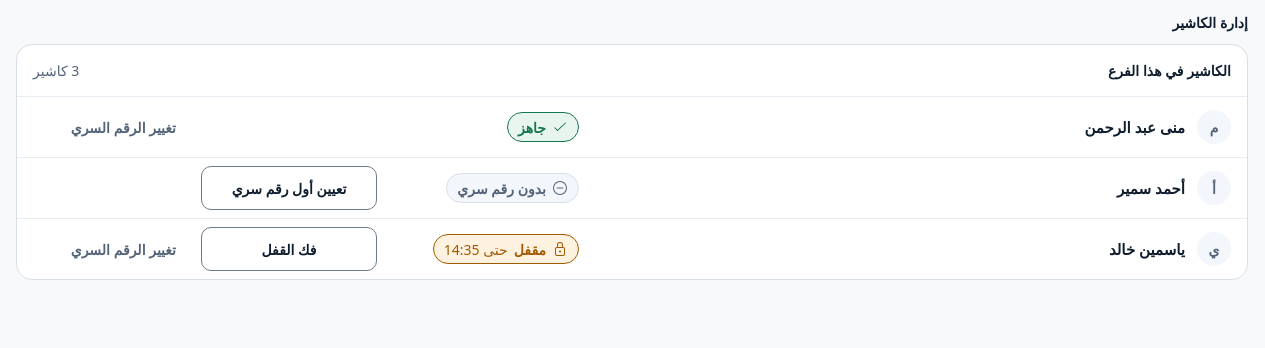
Test: RT-424 CashiersScreen — actions › unlock refused: M-K9 on the screen, list re-reads
Click the button "فك القفل".
click(289, 249)  # box [201, 227, 377, 271]
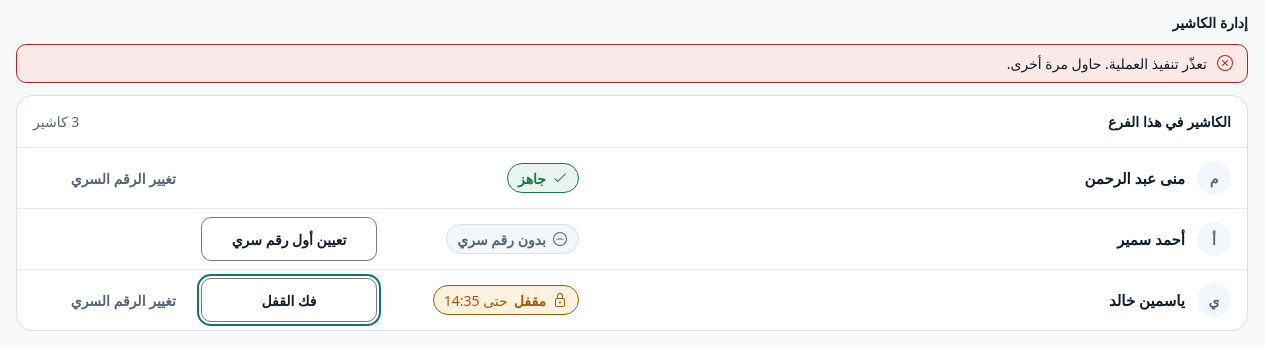
expect the element with test id "action-error" reads "تعذّر تنفيذ العملية. حاول مرة أخرى.": met, box [1007, 54, 1207, 73]
